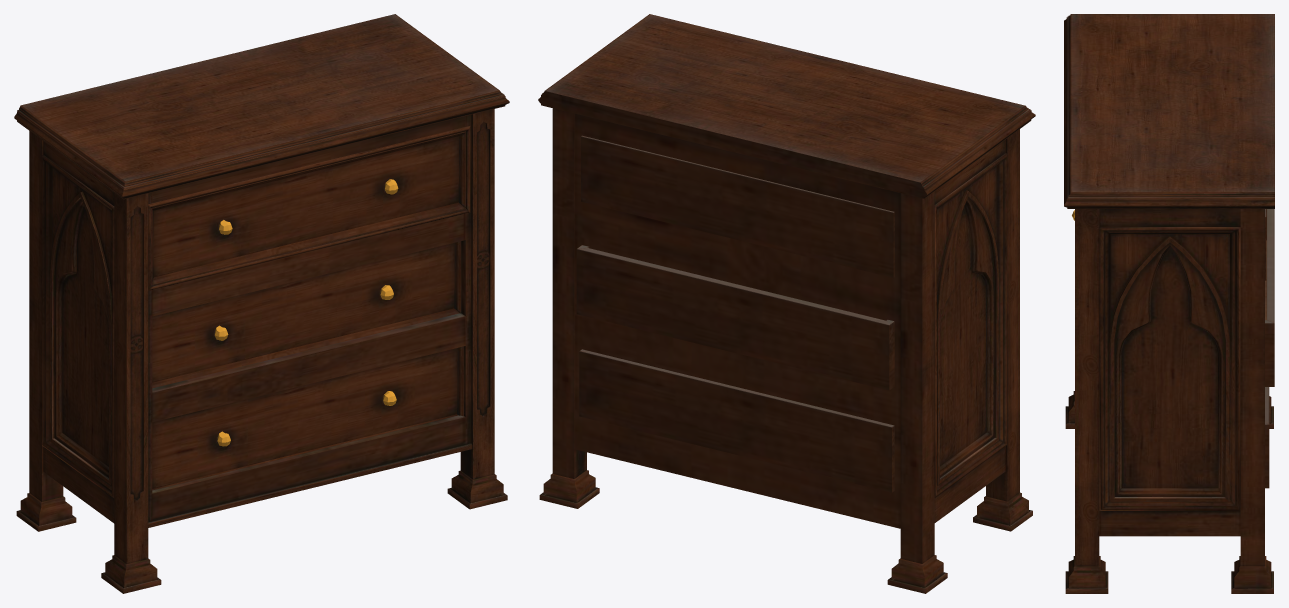
Rendered from cabinet.glb.
3 views of the same model, side by side, from view 1: azimuth 30°, elevation 25°; view 2: azimuth 150°, elevation 25°; view 3: azimuth 270°, elevation 25° (orthographic). The views are drawn at different scales.
Parts seen in each view (by area): view 1: GothicCommode_01, GothicCommode_01_doorNEW.001, GothicCommode_01_doorNEW, GothicCommode_01_doorNEW.002; view 2: GothicCommode_01, GothicCommode_01_doorNEW, GothicCommode_01_doorNEW.002, GothicCommode_01_doorNEW.001; view 3: GothicCommode_01, GothicCommode_01_doorNEW, GothicCommode_01_doorNEW.002.
Part boxes in pixels (x1,y1,x2,y2): GothicCommode_01: [14, 14, 509, 593]; GothicCommode_01_doorNEW.001: [148, 126, 470, 290]; GothicCommode_01_doorNEW: [152, 241, 461, 388]; GothicCommode_01_doorNEW.002: [152, 346, 463, 490]; GothicCommode_01: [538, 14, 1035, 593]; GothicCommode_01_doorNEW: [576, 245, 894, 390]; GothicCommode_01_doorNEW.002: [579, 349, 894, 492]; GothicCommode_01_doorNEW.001: [581, 135, 894, 277]; GothicCommode_01: [1064, 14, 1274, 593]; GothicCommode_01_doorNEW: [1265, 209, 1274, 386]; GothicCommode_01_doorNEW.002: [1265, 387, 1269, 488].
Size of the model in its own units: 1.2 by 1.21 by 0.5807.
2 materials, 1 textured.
